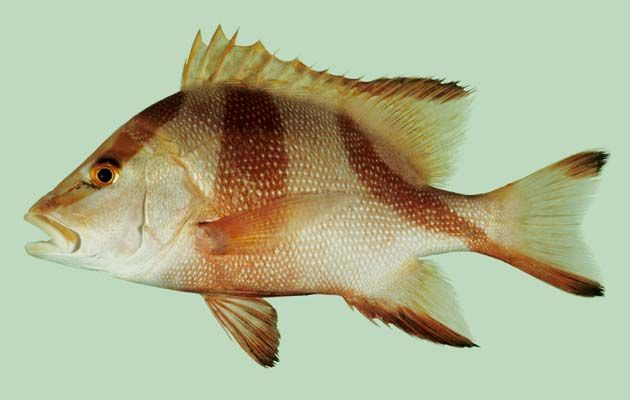fish: (23, 24, 608, 368)
